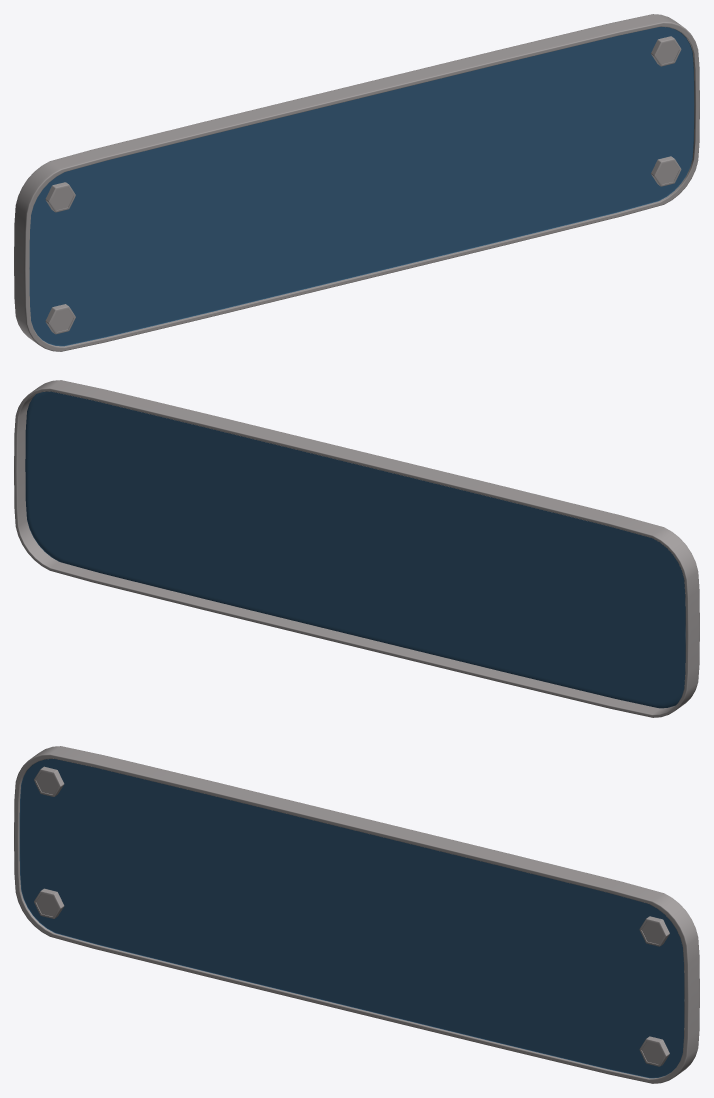
Rendered from CartelAzul.fbx.
3 renders of one model, top to bottom at view 1: azimuth 30°, elevation 25°; view 2: azimuth 150°, elevation 25°; view 3: azimuth 330°, elevation 25°, orthographic.
Visible parts, largest first — view 1: Cartel_high, Tornillos_high; view 2: Cartel_high; view 3: Cartel_high, Tornillos_high.
Boxes of the visible parts, box(x1,y1,x2,y2) form: Cartel_high: box(14, 14, 699, 351); Tornillos_high: box(45, 36, 681, 334); Cartel_high: box(14, 380, 699, 717); Cartel_high: box(14, 746, 699, 1083); Tornillos_high: box(34, 766, 669, 1066).
Size of the model in its own units: 0.0379 by 0.01 by 0.00131.
